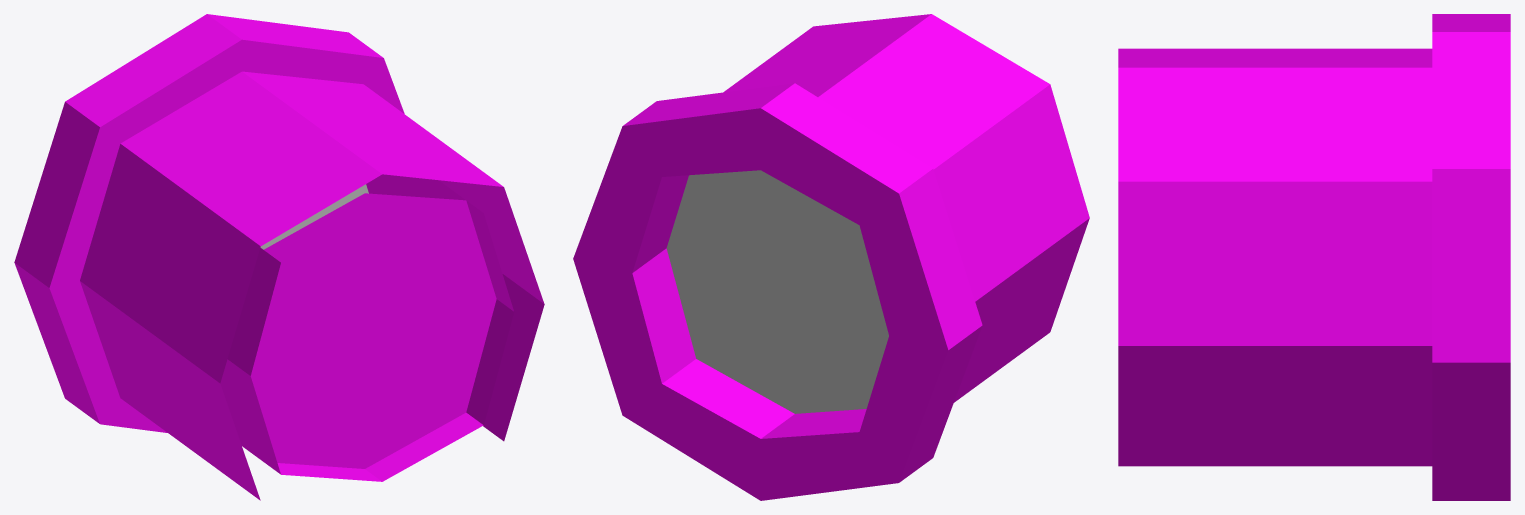
Rendered from wallpipe.obj.
The picture shows the model from 3 angles, left to right: view 1: azimuth 30°, elevation 25°; view 2: azimuth 150°, elevation 25°; view 3: azimuth 270°, elevation 25°; orthographic projection. The views are drawn at different scales.
Visible parts, largest first — view 1: wallpipe_front; view 2: wallpipe_front, wallpipe_back; view 3: wallpipe_front.
Part boxes in pixels (x1,y1,x2,y2): wallpipe_front: (14,14,544,500); wallpipe_front: (573,14,1089,500); wallpipe_back: (666,170,888,413); wallpipe_front: (1118,14,1510,500).
Size of the model in its own units: 0.76 by 0.76 by 0.6.
